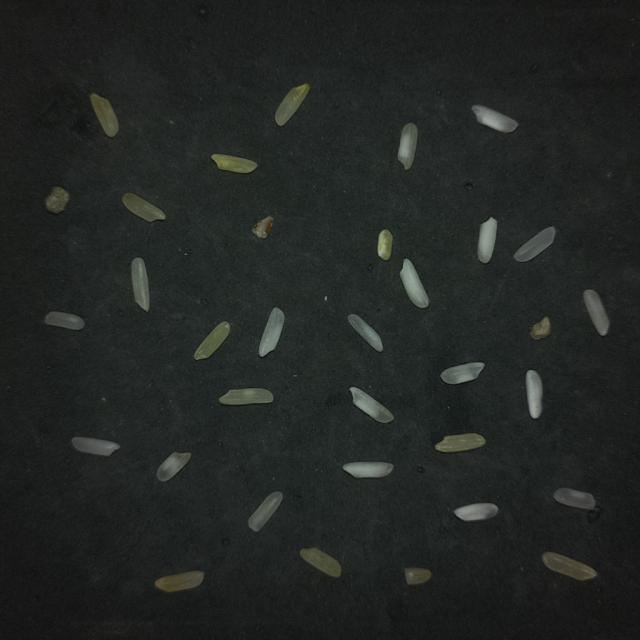broken: (122, 193, 165, 222), (157, 452, 191, 481), (441, 362, 484, 384)
chalky: (400, 259, 428, 308), (477, 217, 497, 263), (526, 370, 543, 419), (343, 462, 393, 478), (454, 503, 498, 521), (405, 568, 431, 584)
discolored: (275, 84, 309, 126), (194, 322, 229, 360), (90, 94, 118, 137), (300, 548, 341, 577), (155, 571, 204, 592), (435, 433, 485, 452), (219, 388, 273, 405), (212, 154, 257, 173), (378, 229, 393, 260)
foreign: (45, 187, 69, 213), (530, 317, 551, 339)
red: (252, 213, 275, 241)
whole: (542, 552, 597, 581), (350, 387, 393, 423), (514, 227, 555, 262), (348, 314, 383, 352), (249, 492, 283, 531), (472, 105, 518, 133), (259, 307, 284, 357), (584, 290, 609, 336), (398, 124, 418, 170), (132, 258, 149, 311), (72, 437, 119, 456), (554, 488, 595, 509), (45, 312, 84, 329)
